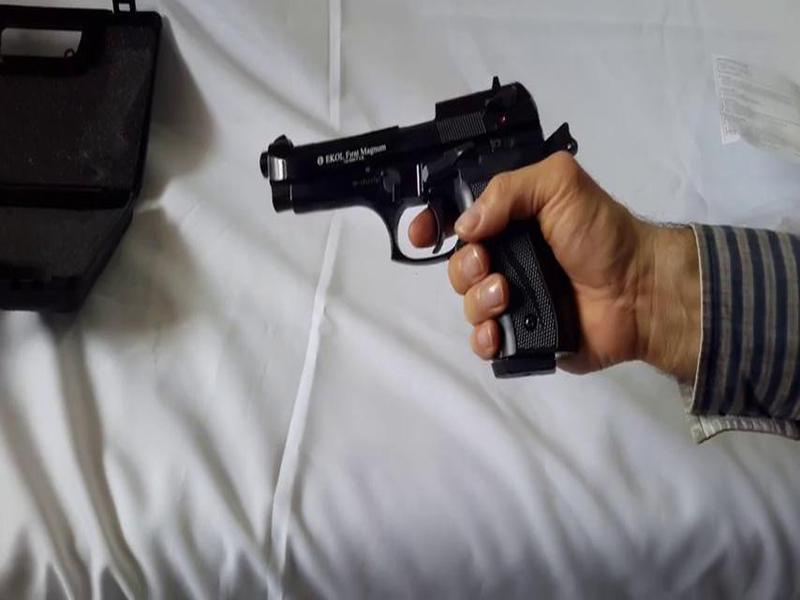Pistola: (251, 81, 611, 391)
